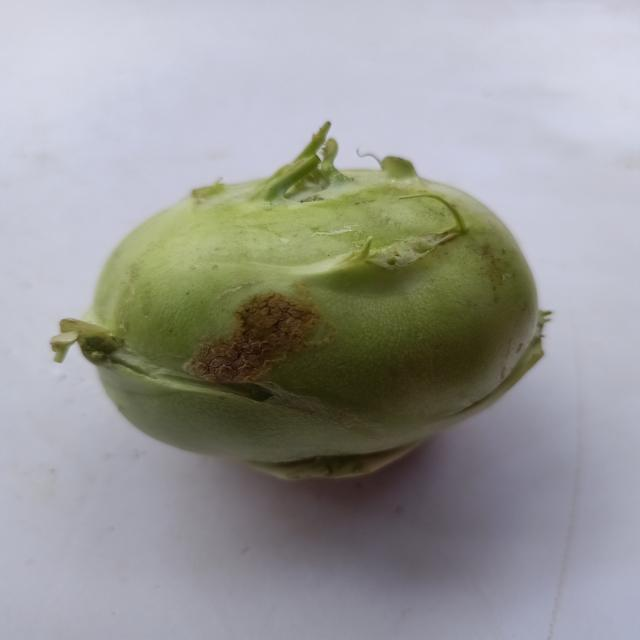Turnip: (43, 106, 596, 506)
